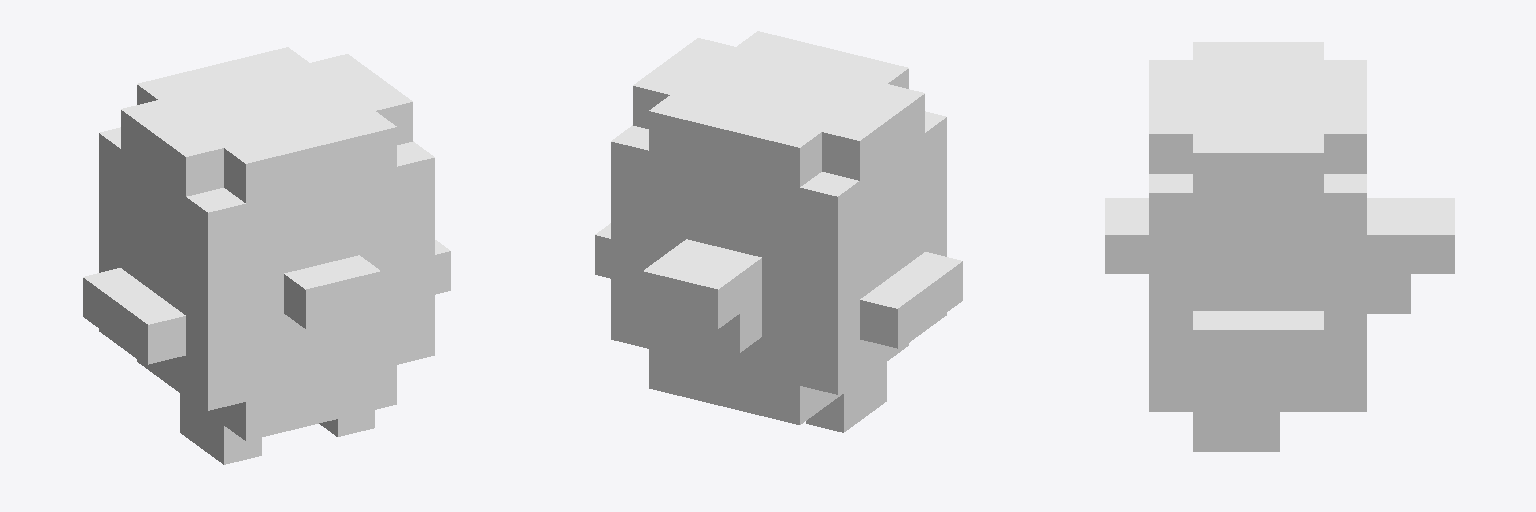
File: Chicken_8x8.obj
The picture shows the model from 3 angles: view 1: azimuth 30°, elevation 25°; view 2: azimuth 150°, elevation 25°; view 3: azimuth 270°, elevation 25°; orthographic projection.
Parts seen in each view (by area): view 1: Chicken_8x8; view 2: Chicken_8x8; view 3: Chicken_8x8.
Boxes of the visible parts, x1=… form: Chicken_8x8: x1=83, y1=47, x2=450, y2=464; Chicken_8x8: x1=595, y1=31, x2=962, y2=432; Chicken_8x8: x1=1105, y1=42, x2=1454, y2=451.
Size of the model in its own units: 0.8 by 0.8 by 0.8.